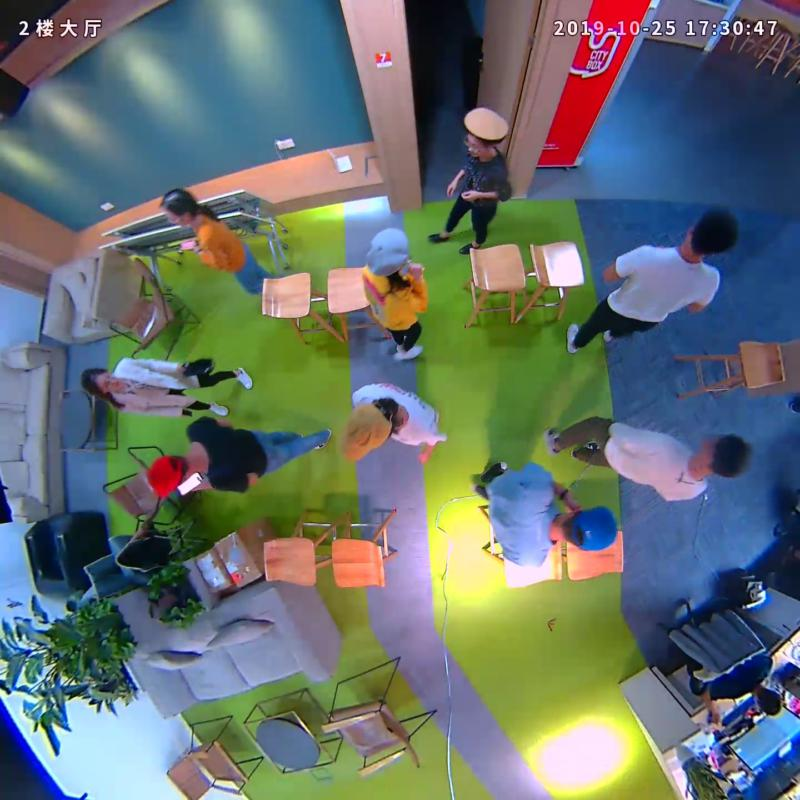head: (339, 399, 394, 461), (557, 505, 617, 552), (684, 206, 738, 257), (364, 226, 411, 279), (698, 432, 749, 479), (461, 106, 507, 157), (146, 454, 190, 498), (159, 187, 198, 227), (79, 366, 124, 397)
